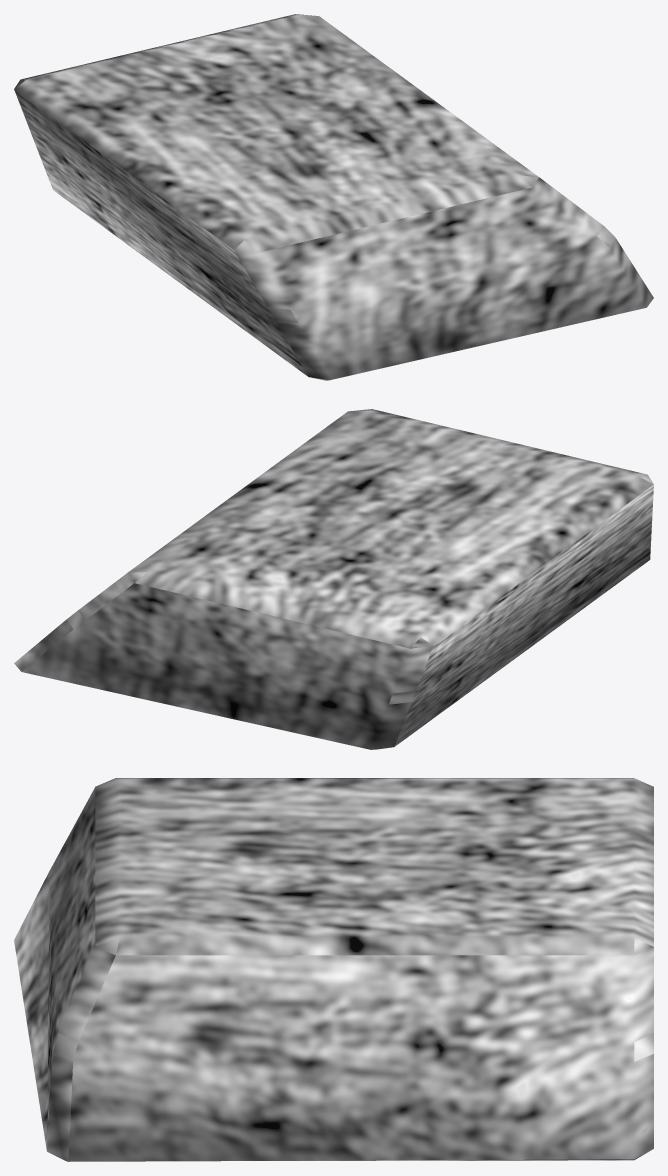
File: techo_paja_punta_codo.fbx
3 renders of one model, top to bottom at view 1: azimuth 30°, elevation 25°; view 2: azimuth 150°, elevation 25°; view 3: azimuth 270°, elevation 25°, orthographic. The views are drawn at different scales.
Parts seen in each view (by area): view 1: techo_paja_punta_codo; view 2: techo_paja_punta_codo; view 3: techo_paja_punta_codo.
Part boxes in pixels (left/top/right/bottom): techo_paja_punta_codo: left=14, top=14, right=653, bottom=380; techo_paja_punta_codo: left=14, top=409, right=653, bottom=749; techo_paja_punta_codo: left=14, top=778, right=653, bottom=1161.
Bounding box in the file's own units: 144 × 46.52 × 162.
